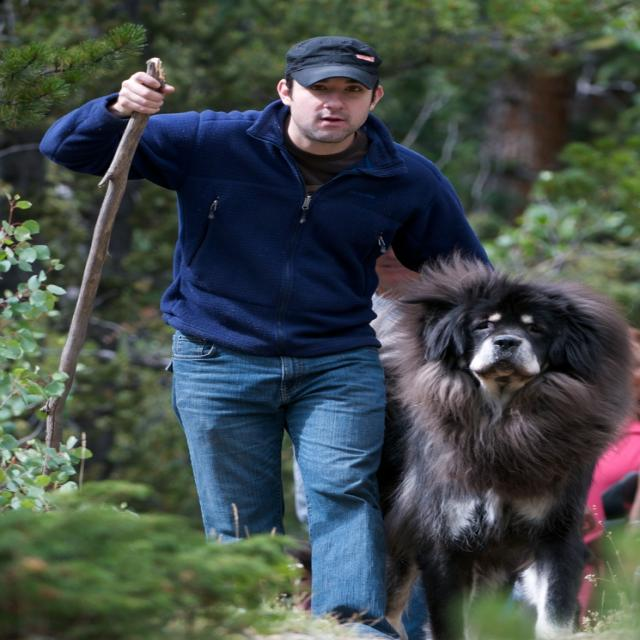no_helmet: (283, 27, 382, 102)
